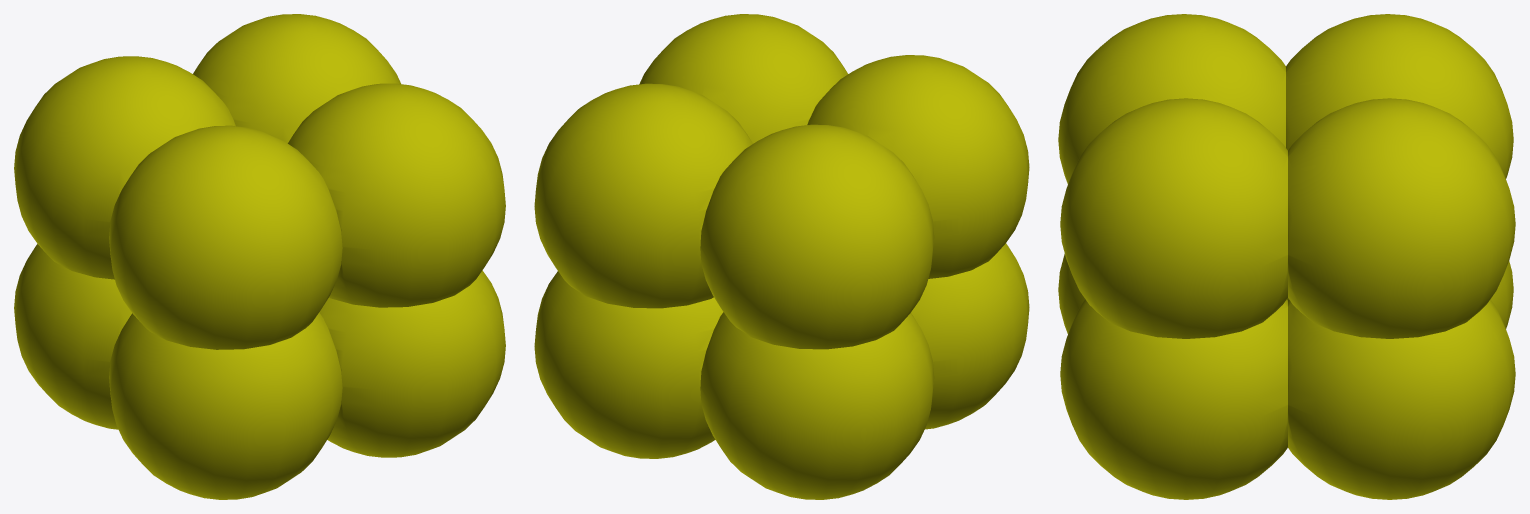
File: Histones.fbx
3 renders of one model, left to right at view 1: azimuth 30°, elevation 25°; view 2: azimuth 150°, elevation 25°; view 3: azimuth 270°, elevation 25°, orthographic. The views are drawn at different scales.
Visible parts, largest first — view 1: polySurface5; view 2: polySurface5; view 3: polySurface5.
Part boxes in pixels (x1=…): polySurface5: x1=14, y1=14, x2=505, y2=499; polySurface5: x1=534, y1=14, x2=1029, y2=499; polySurface5: x1=1058, y1=14, x2=1515, y2=499.
Bounding box in the file's own units: 5.87 × 5.41 × 5.9.
